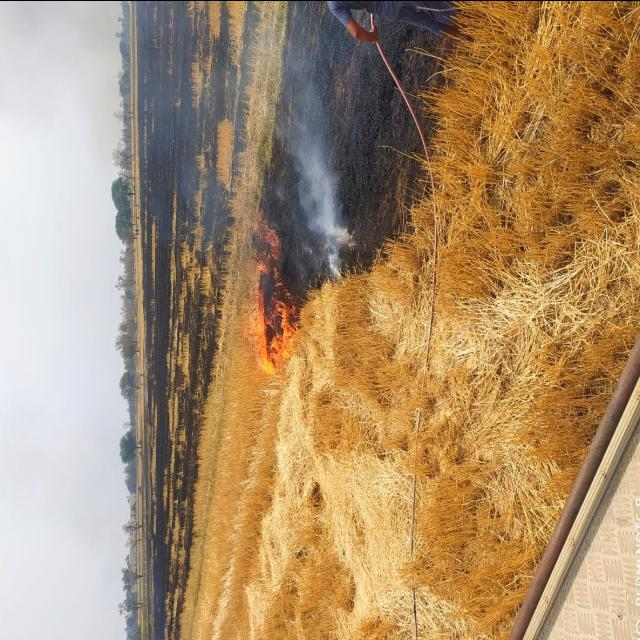firerotation: (279, 79, 355, 276), (233, 220, 299, 380)
